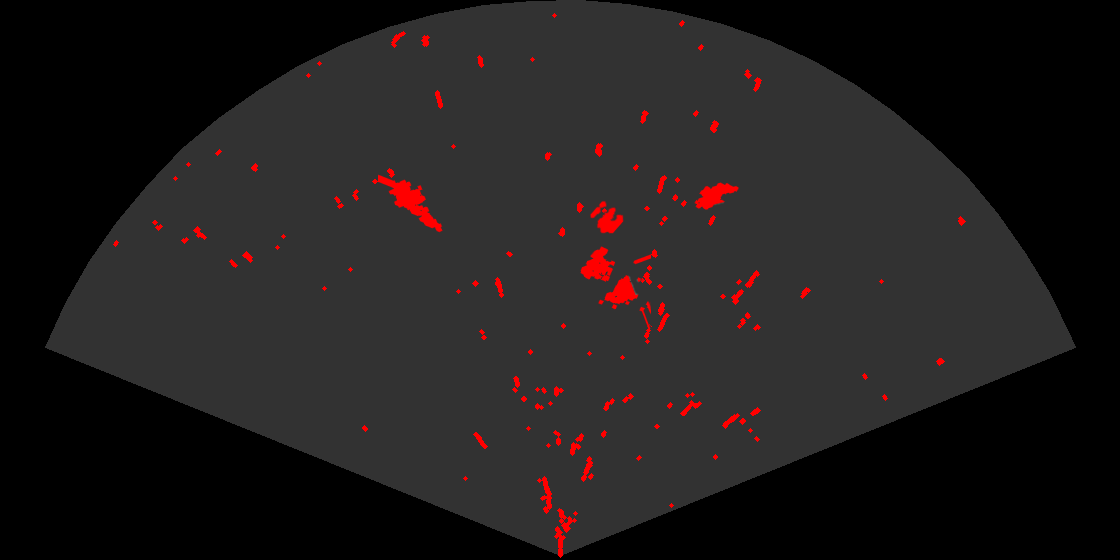AUV: (693, 181, 740, 211)
ball: (588, 199, 625, 235)
cage: (579, 245, 651, 329)
frogman: (378, 173, 444, 234)
